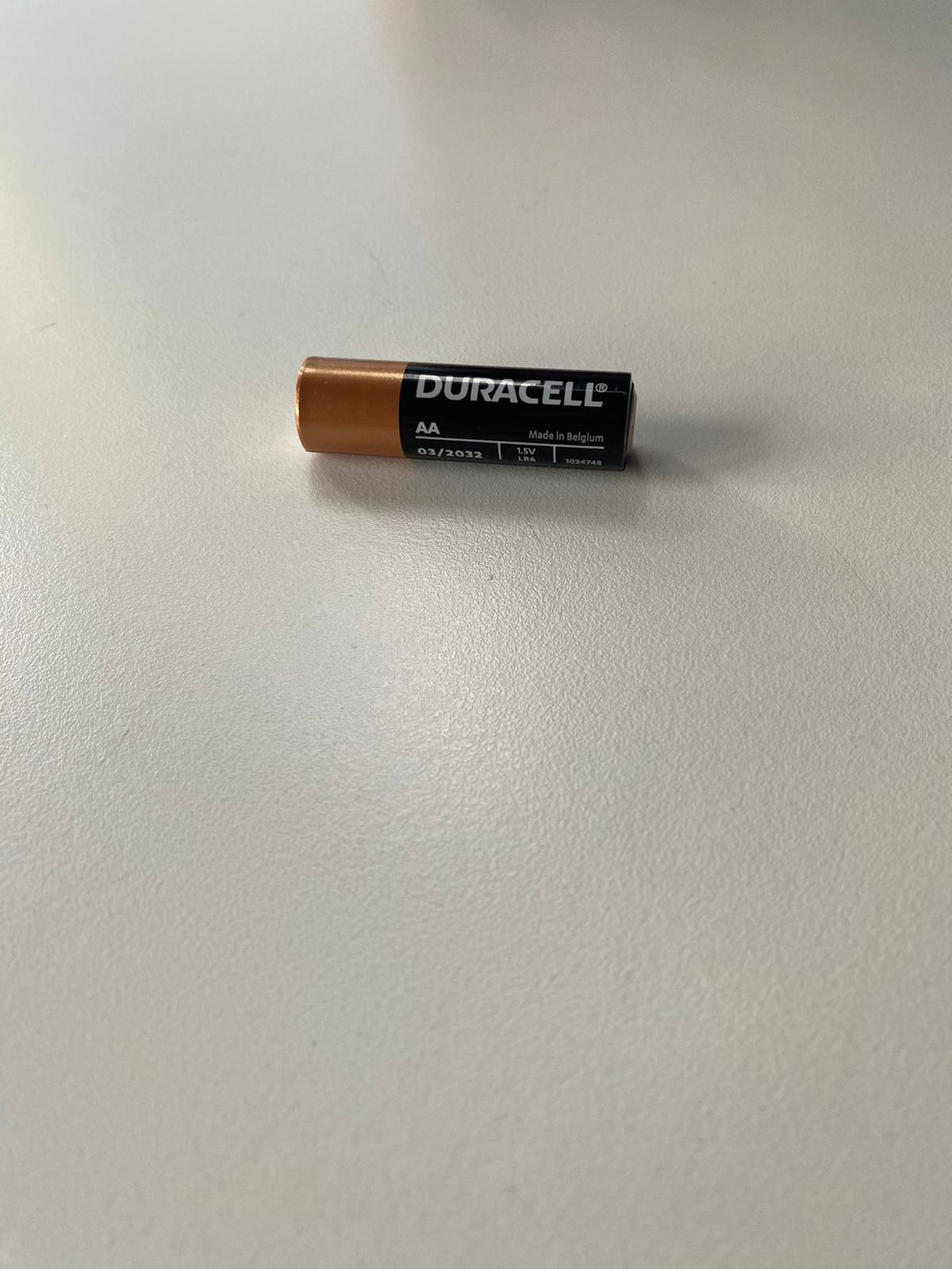AA: (294, 354, 636, 471)
